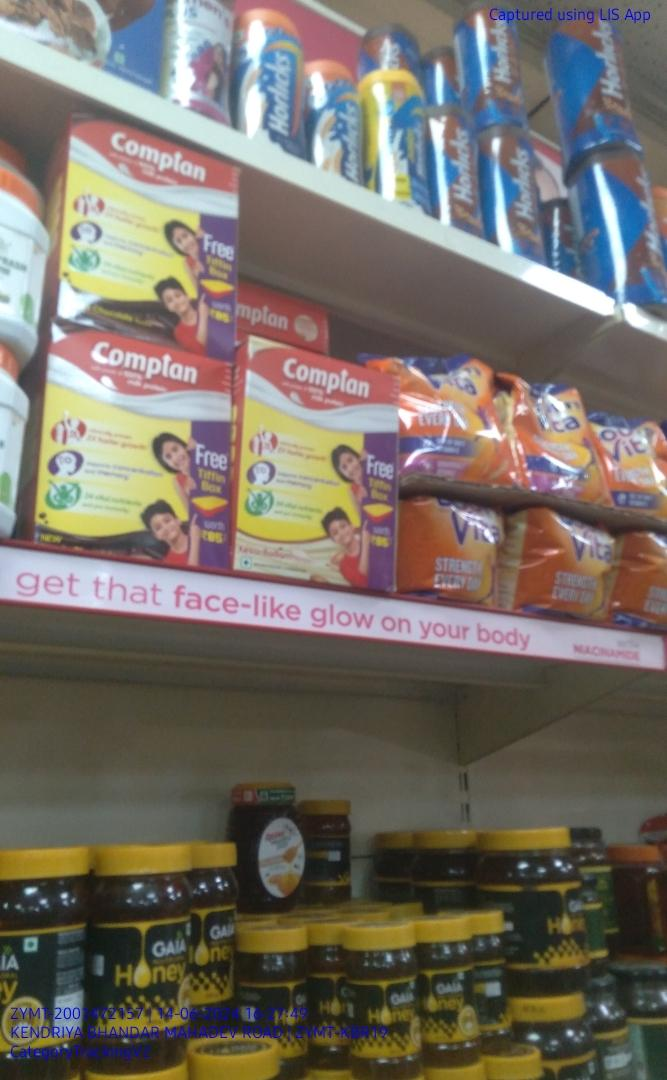COMPLAN_CHOCOLATE_200_GMS_PACK: (58, 111, 240, 346), (39, 342, 228, 565)
COMPLAN_KESAR_BADAM_200_GMS_PACK: (237, 338, 401, 586)
